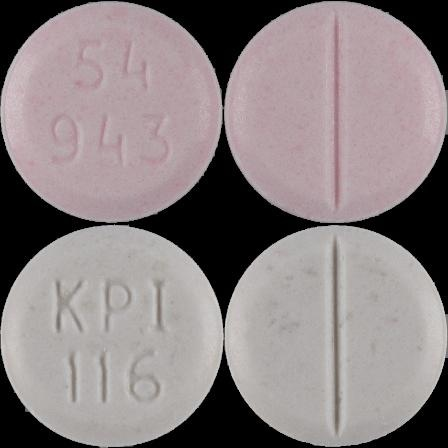54868-1744: (0, 0, 224, 224)
